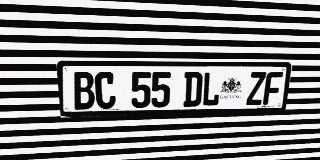5: (131, 72, 151, 108), (151, 72, 171, 108)
B: (72, 72, 95, 110)
C: (94, 72, 116, 109)
D: (183, 72, 203, 107)
F: (263, 72, 283, 105)
L: (201, 72, 221, 106)
Z: (246, 72, 266, 105)
